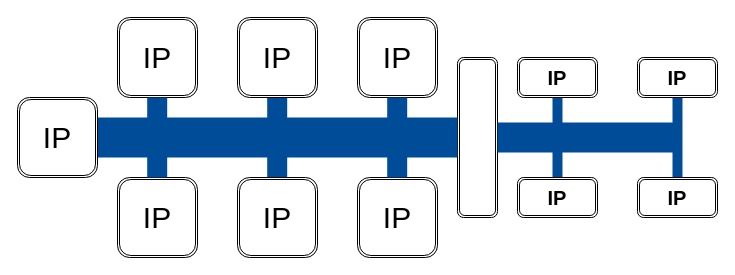
Some shapes in this 735 by 275 pixel diagram are drawn without their labels. The shapes that lost their labels are listed below. From the top down, each one's box as (x1, y1, x2, y2) in pixels, then its label:
(97, 117, 457, 157): AHB
(456, 56, 498, 218): B R I D G E
(497, 122, 677, 152): APB
